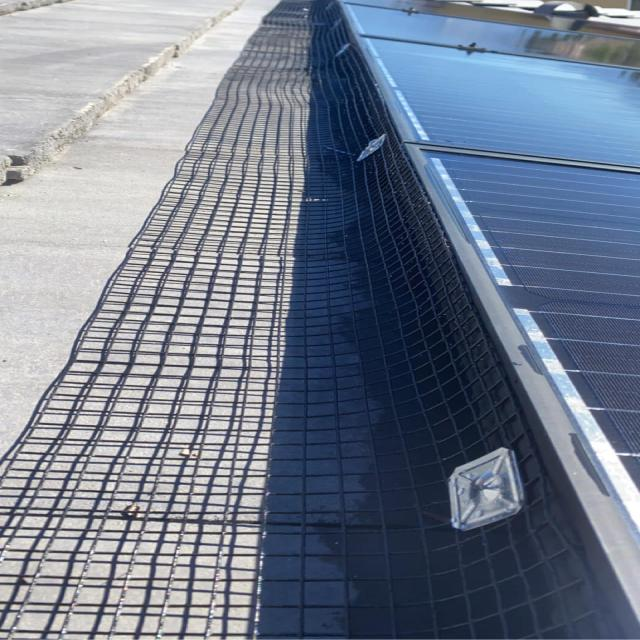clean-solar-panel: (430, 154, 639, 451)
